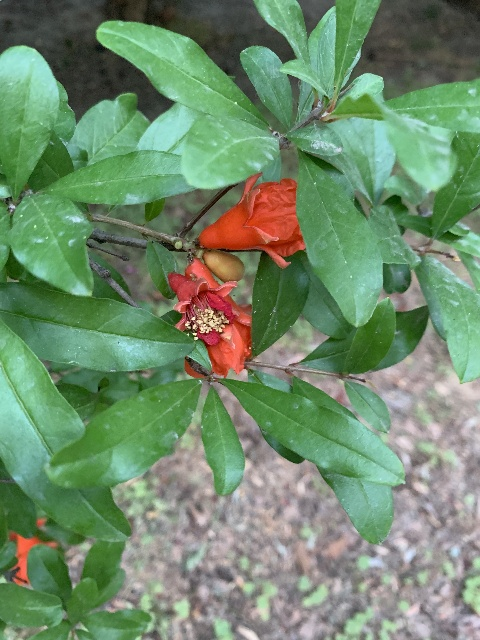bud: (204, 250, 243, 280)
flower: (199, 170, 305, 267), (184, 257, 252, 377)
